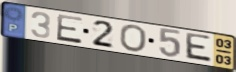2: (90, 19, 118, 50)
3: (30, 11, 52, 39)
5: (158, 27, 183, 60)
E: (183, 31, 214, 64), (55, 13, 85, 45)
O: (119, 24, 148, 53)
